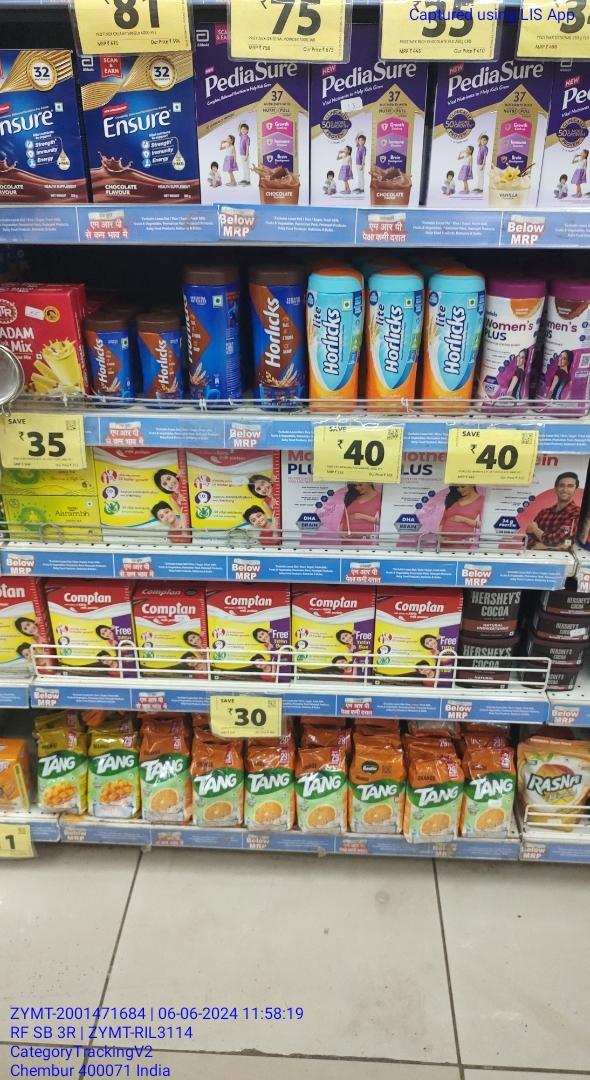COMPLAN_CHOCOLATE_200_GMS_PACK: (134, 599, 204, 680)
COMPLAN_CREAMY_CLASSIC_500_G_PACK: (189, 448, 274, 553), (98, 447, 185, 545)
HORLICKS_LITE_REGULAR_MALT_500_GM_JAR: (426, 275, 480, 416), (365, 271, 416, 417), (308, 270, 358, 417)
HORLICK_CHOCOLATE_200_G_JAR: (86, 314, 130, 408), (139, 315, 181, 407)
HORLICK_CHOCOLATE_500_G_JAR: (250, 267, 304, 415), (185, 267, 233, 411)
PEDIASURE_CHOCOLATE_500_G_PACK: (312, 28, 429, 208), (202, 24, 304, 206)
PEDIASURE_VANILLA_500_G_PACK: (435, 51, 543, 209)
